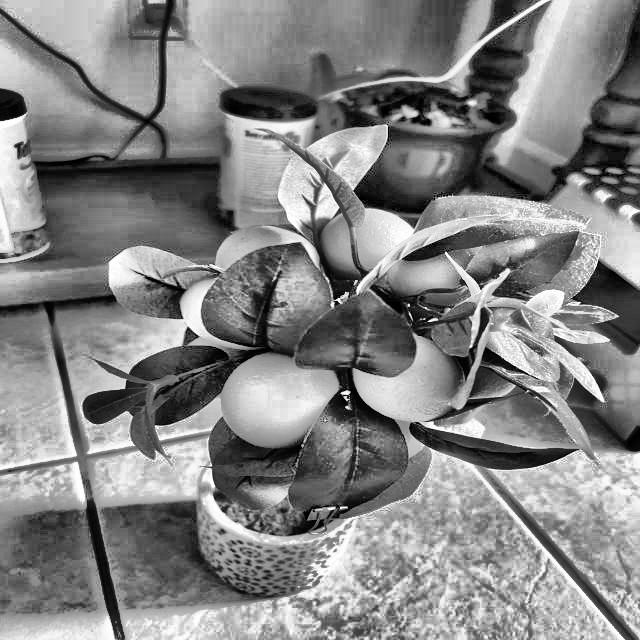plants: (151, 147, 622, 569)
